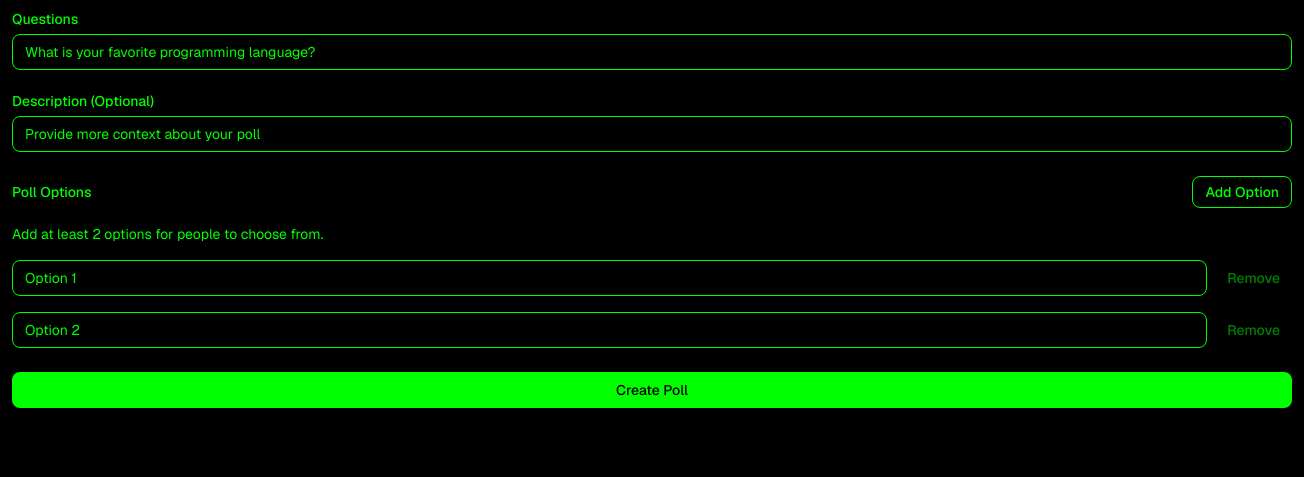
it: PollCreateForm Unit Tests › should allow adding and removing options
// Add an option
Step 1. Click the button "Add Option" → (1242, 192), box [1192,176,1292,208]
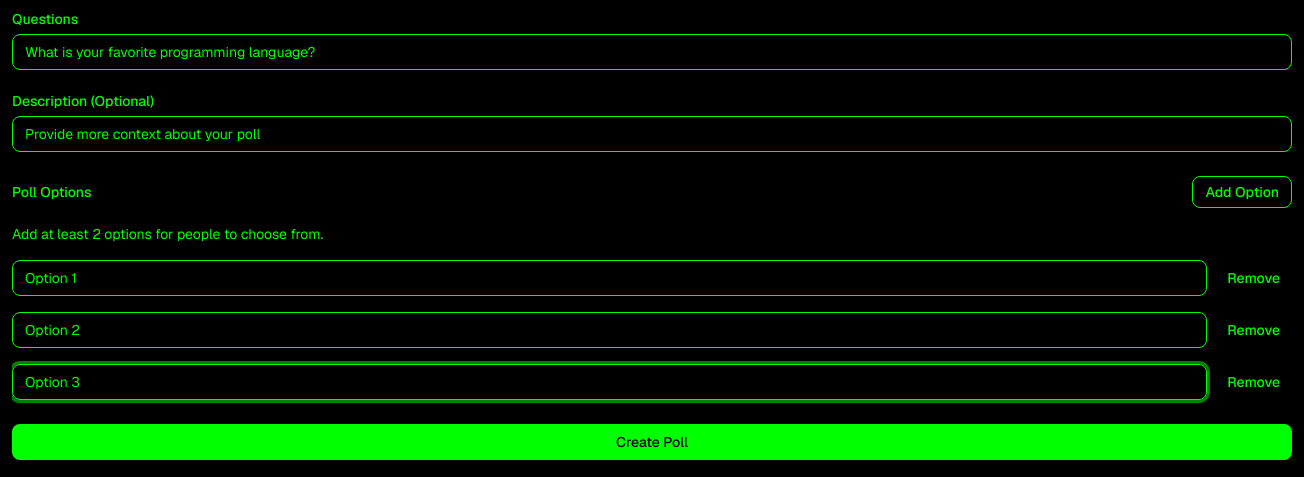
Now the field with placeholder "Option 3" is shown, box [12,364,1207,400]
// Remove an option (should remove Option 3)
Step 2. Click the 3rd button "Remove" → (1254, 382), box [1215,366,1292,398]
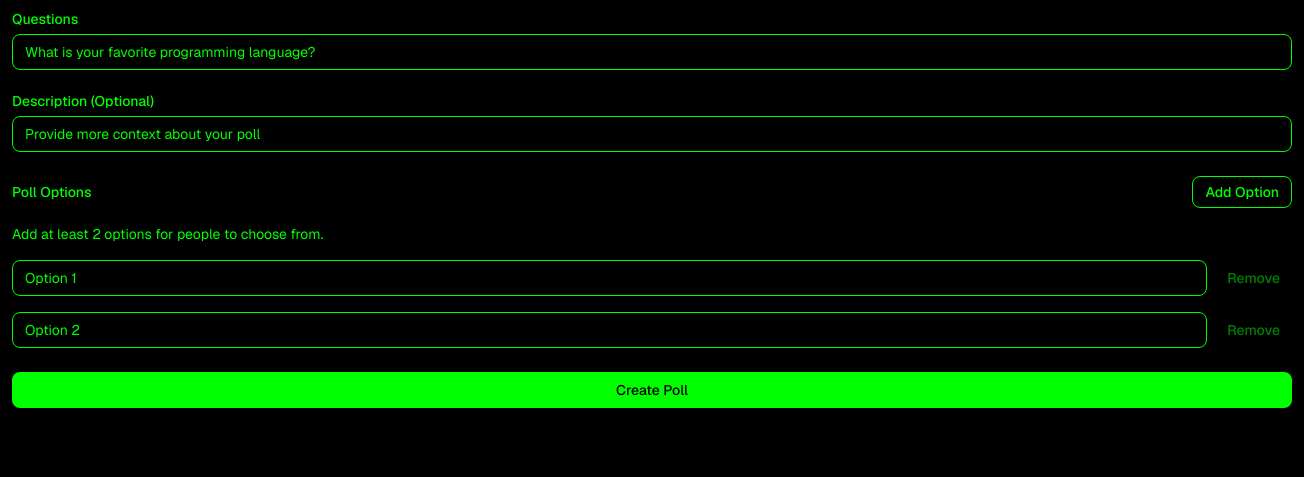
Expected: the field with placeholder "Option 3" is not shown
Now the 1st button "Remove" is disabled, box [1215,262,1292,294]
Now the 2nd button "Remove" is disabled, box [1215,314,1292,346]
